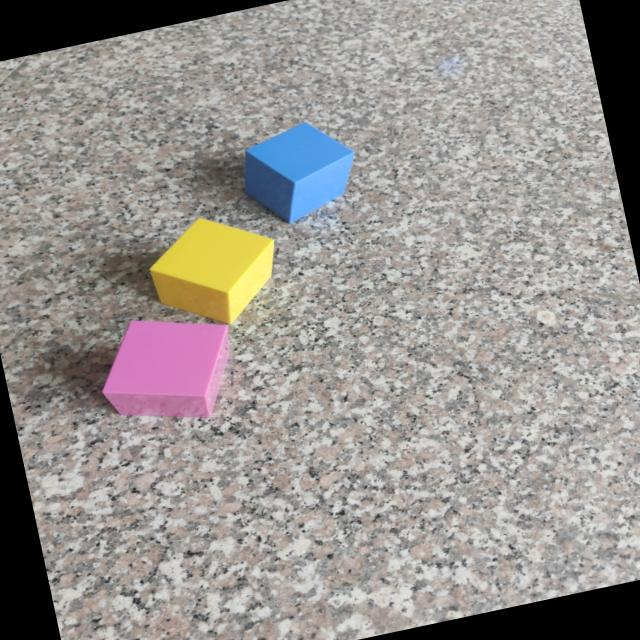blue: (244, 123, 354, 225)
pink: (102, 320, 230, 420)
yellow: (149, 219, 275, 328)
